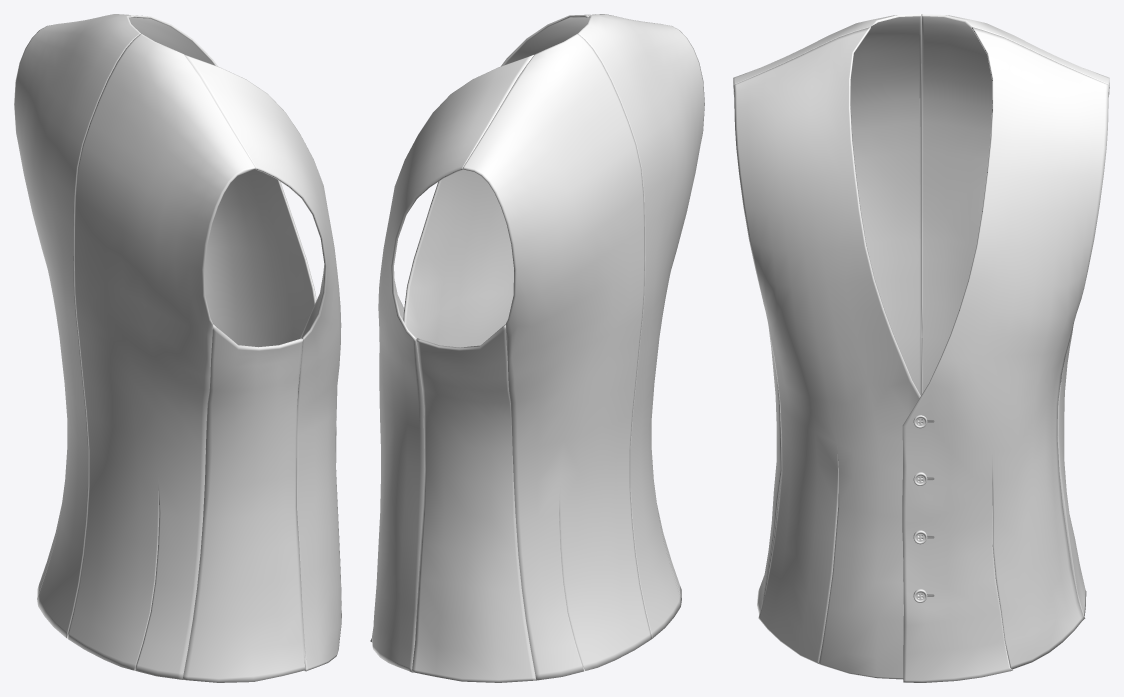
File: single_breasted_straight_bottom.glb
3 renders of one model, left to right at view 1: azimuth 30°, elevation 25°; view 2: azimuth 150°, elevation 25°; view 3: azimuth 270°, elevation 25°, orthographic. The views are drawn at different scales.
Parts seen in each view (by area): view 1: SM_Vest_Back_outside, SM_Vest_front_Sigle_Straight; view 2: SM_Vest_Back_outside, SM_Vest_front_Sigle_Straight; view 3: SM_Vest_front_Sigle_Straight, SM_Vest_Back_outside, SM_Button_4.
Part boxes in pixels (x1,y1,x2,y2): SM_Vest_Back_outside: (14,14,306,682); SM_Vest_front_Sigle_Straight: (126,14,341,671); SM_Vest_Back_outside: (411,14,704,682); SM_Vest_front_Sigle_Straight: (370,14,594,672); SM_Vest_front_Sigle_Straight: (733,27,1109,682); SM_Vest_Back_outside: (733,14,1109,618); SM_Button_4: (913,415,934,602).
Bounding box in the file's own units: 1.56 × 3.65 × 2.12.
5 materials, 1 textured.
